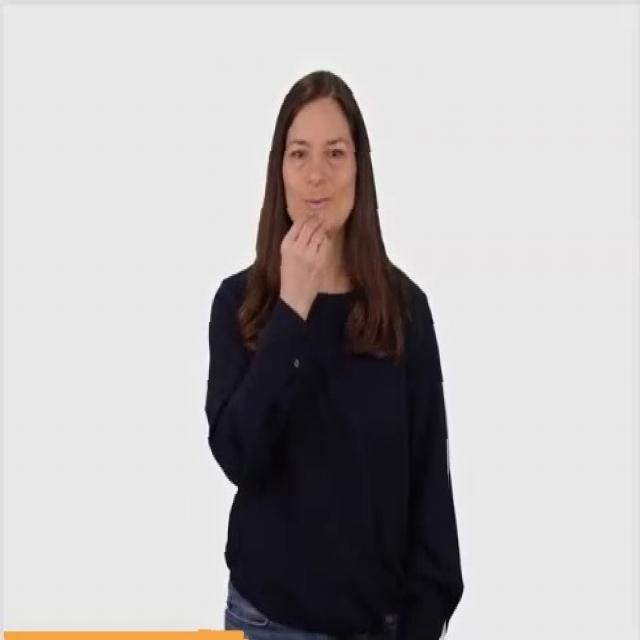Food: (200, 62, 453, 640)
